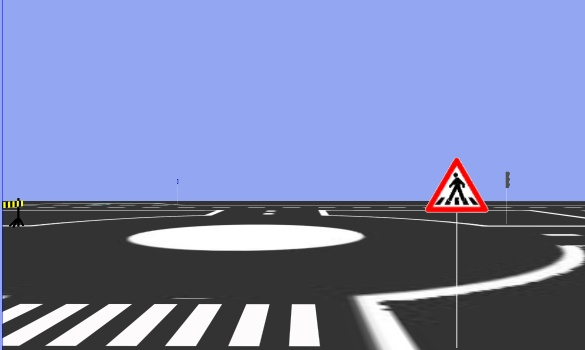yaya_gecidi: (420, 155, 494, 217)
